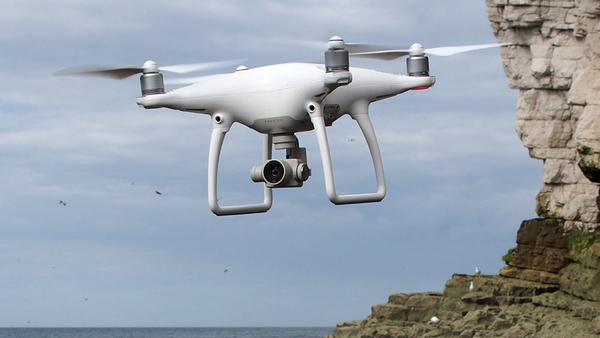drone: (50, 34, 512, 218)
